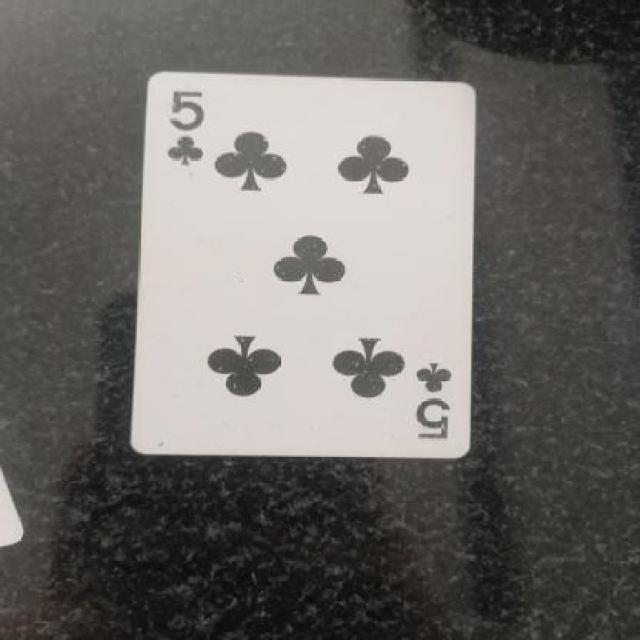5C: (143, 90, 217, 175), (414, 357, 466, 448)
